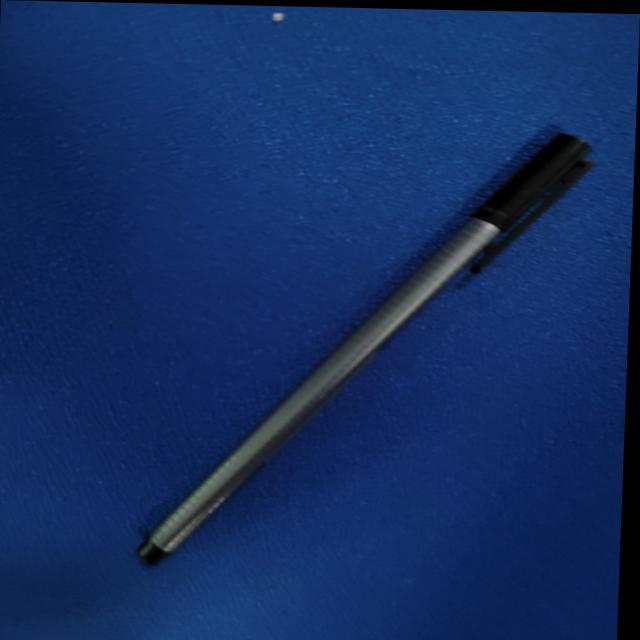caneta: (124, 107, 625, 582)
